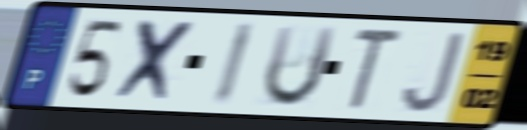5: (66, 17, 126, 99)
I: (209, 19, 258, 108)
J: (399, 30, 468, 116)
T: (343, 25, 406, 113)
U: (260, 23, 341, 111)
X: (110, 17, 202, 106)
